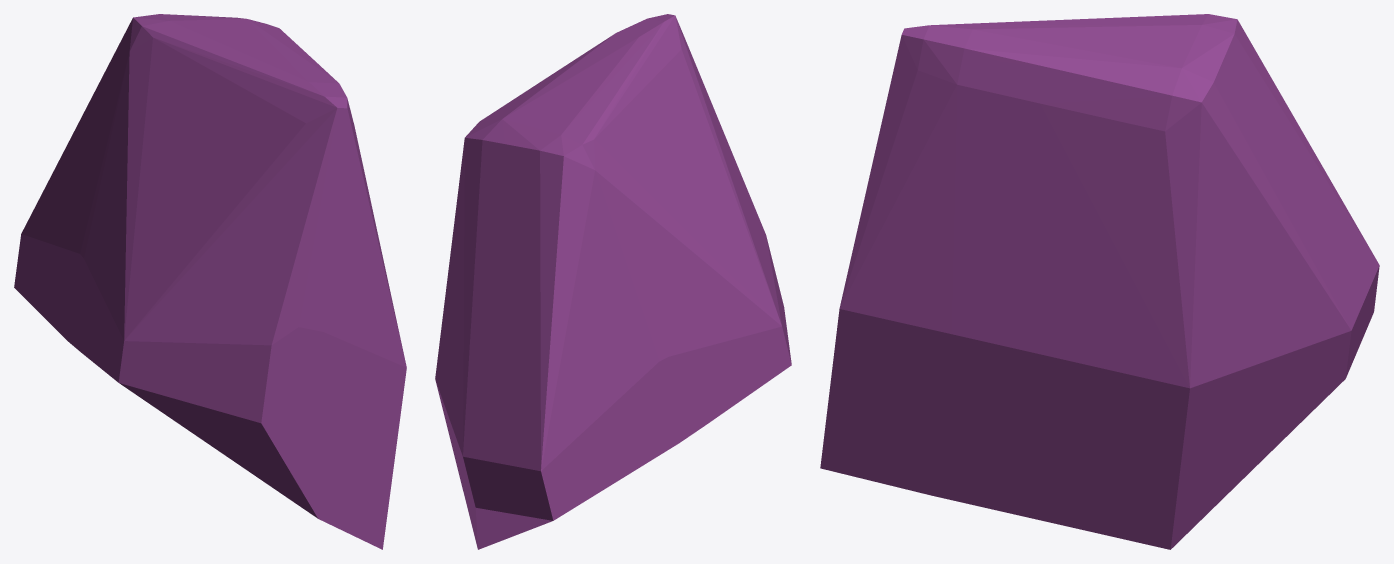
File: converted_Downdraft_Assy_collision_64_924a94ff.obj
The picture shows the model from 3 angles, left to right: view 1: azimuth 30°, elevation 25°; view 2: azimuth 150°, elevation 25°; view 3: azimuth 270°, elevation 25°; orthographic projection. The views are drawn at different scales.
Size of the model in its own units: 0.1162 by 0.1884 by 0.1958.
